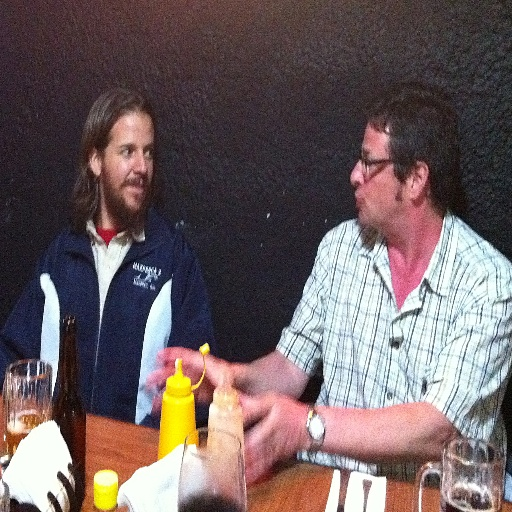hand: (145, 345, 236, 415), (238, 390, 300, 487)
